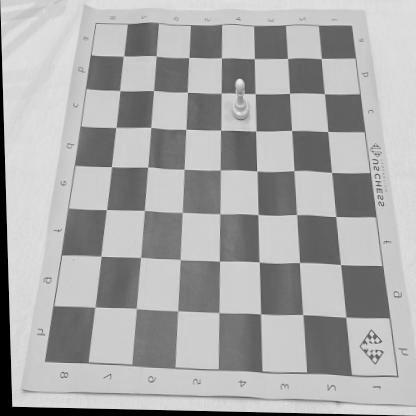white-pawn: (230, 78, 250, 122)
